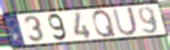3: (23, 15, 45, 44)
4: (73, 10, 93, 39)
9: (138, 6, 160, 35), (47, 13, 68, 41)
Q: (92, 9, 118, 39)
U: (111, 6, 139, 37)
